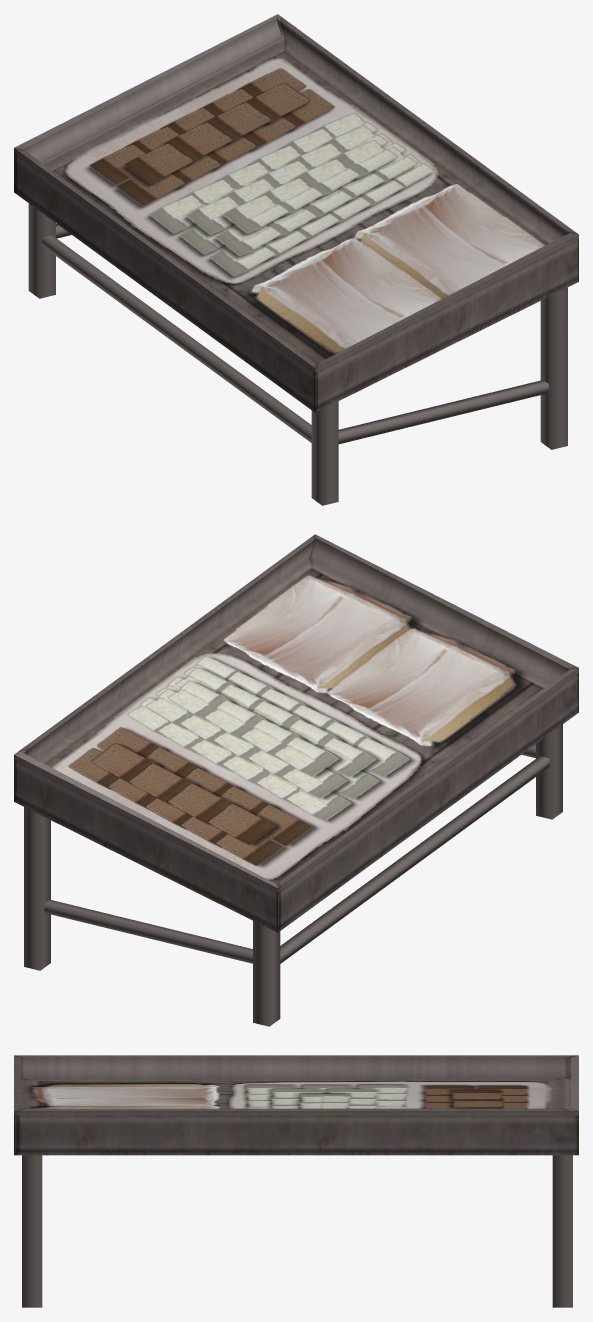
Rendered from dooboo.FBX.
3 views of the same model, one above another, from view 1: azimuth 30°, elevation 25°; view 2: azimuth 150°, elevation 25°; view 3: azimuth 270°, elevation 25° (orthographic). The views are drawn at different scales.
Visible parts, largest first — view 1: polySurface25; view 2: polySurface25; view 3: polySurface25.
Part boxes in pixels (x1=…): polySurface25: x1=14, y1=14, x2=578, y2=505; polySurface25: x1=14, y1=534, x2=578, y2=1026; polySurface25: x1=14, y1=1055, x2=578, y2=1307.
Size of the model in its own units: 14.28 by 11.01 by 28.23.
Materials: 1 (1 with a texture image).
